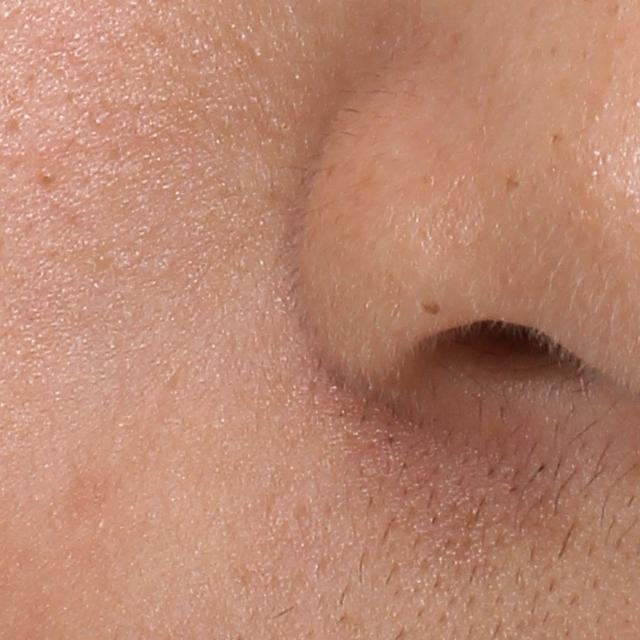nevus: (414, 293, 445, 316)
